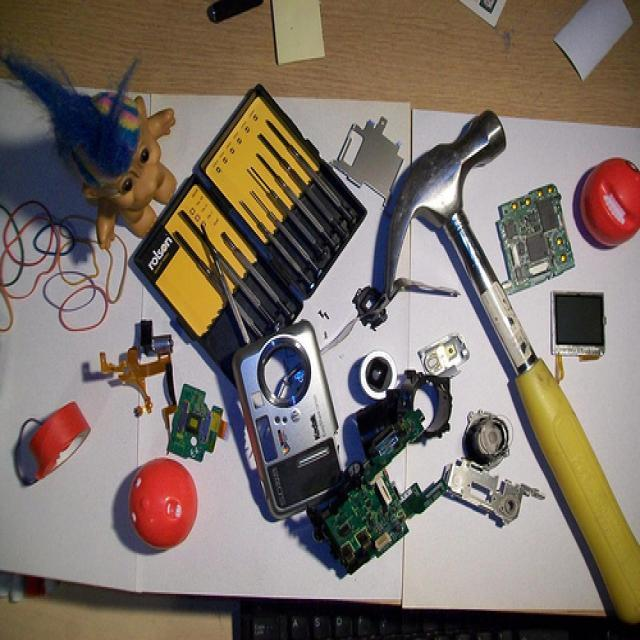hammer: (378, 101, 640, 640)
